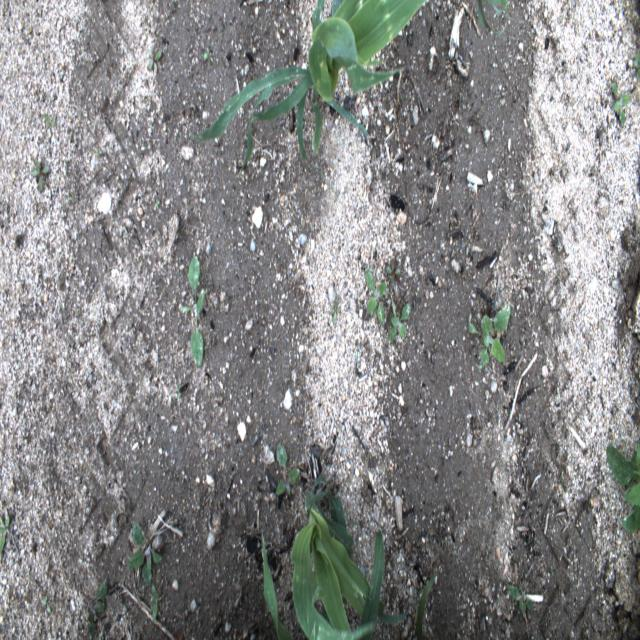crop: (186, 0, 428, 201), (261, 476, 409, 640), (416, 571, 438, 639), (478, 0, 511, 37)
weed: (606, 440, 640, 532), (179, 255, 205, 369), (468, 304, 511, 369), (128, 521, 162, 585), (276, 443, 300, 496), (366, 268, 388, 325), (386, 301, 411, 343), (82, 577, 108, 614), (610, 81, 630, 125), (506, 584, 533, 614), (32, 156, 48, 191), (149, 586, 165, 620), (81, 608, 97, 639), (385, 258, 401, 288), (0, 512, 10, 554), (42, 109, 57, 136), (147, 48, 161, 70), (330, 301, 340, 324), (633, 52, 640, 78), (557, 472, 568, 488), (203, 46, 213, 62), (117, 570, 126, 587), (42, 599, 51, 612), (177, 378, 182, 399), (95, 148, 103, 157), (154, 198, 159, 207), (550, 566, 554, 575)
